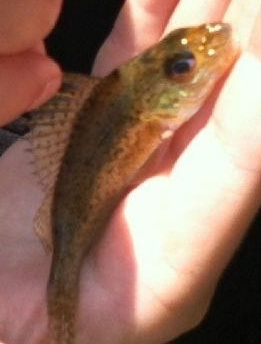Gymnocephalus cernuus: (20, 20, 241, 343)
